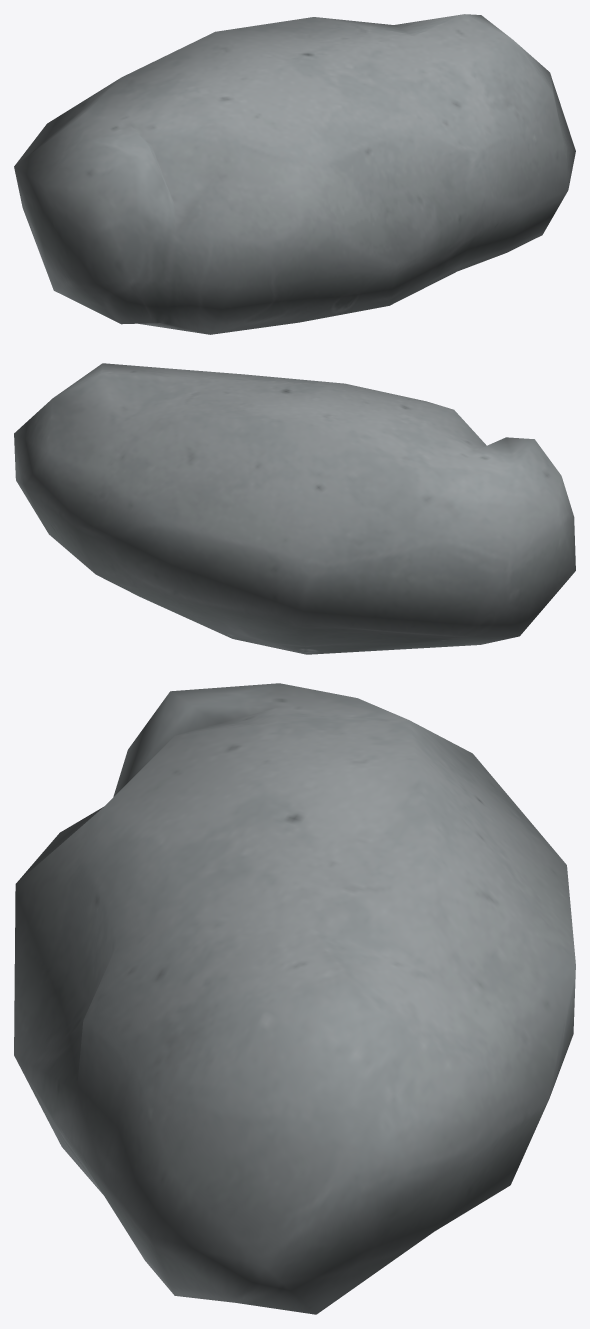
Rendered from Model_clay_01_a.fbx.
3 renders of one model, top to bottom at view 1: azimuth 30°, elevation 25°; view 2: azimuth 150°, elevation 25°; view 3: azimuth 270°, elevation 25°, orthographic. The views are drawn at different scales.
Visible parts, largest first — view 1: clay_01_a; view 2: clay_01_a; view 3: clay_01_a.
Boxes of the visible parts, x1,y1,x2,y2 form: clay_01_a: (14,14,575,334); clay_01_a: (14,363,575,654); clay_01_a: (14,683,575,1314).
Size of the model in its own units: 191 by 83.27 by 110.
